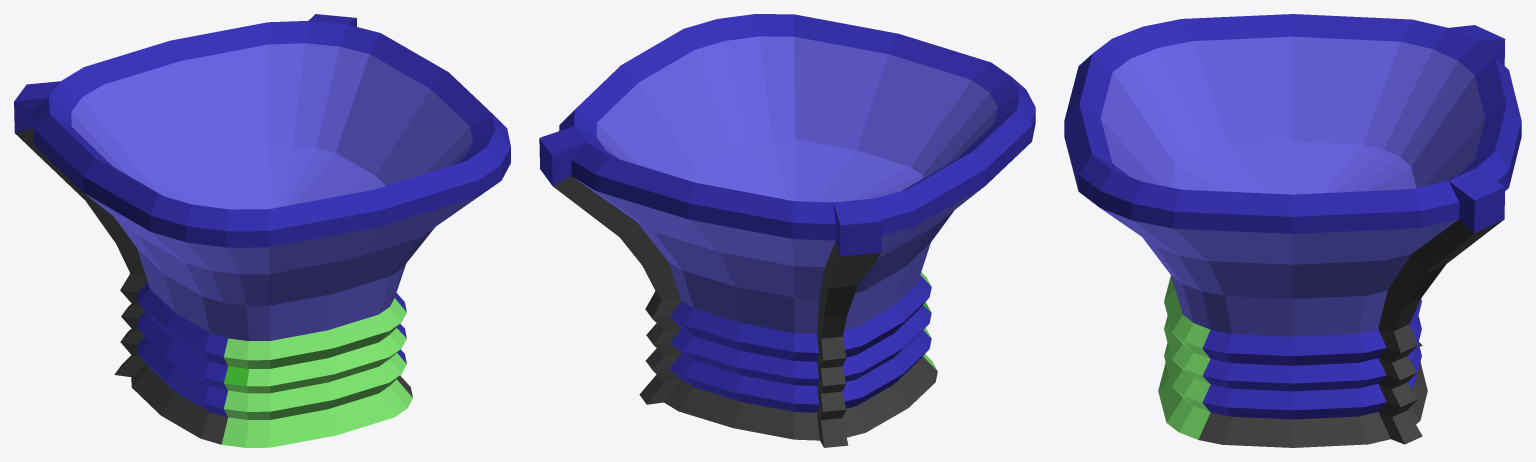
Rendered from Package_End_2.fbx.
3 renders of one model, left to right at view 1: azimuth 30°, elevation 25°; view 2: azimuth 150°, elevation 25°; view 3: azimuth 270°, elevation 25°, orthographic. The views are drawn at different scales.
Parts seen in each view (by area): view 1: pCylinder26; view 2: pCylinder26; view 3: pCylinder26.
Boxes of the visible parts, x1=… form: pCylinder26: x1=14, y1=14, x2=510, y2=447; pCylinder26: x1=539, y1=14, x2=1035, y2=447; pCylinder26: x1=1064, y1=14, x2=1521, y2=447.
Size of the model in its own units: 2.25 by 1.56 by 2.25.
